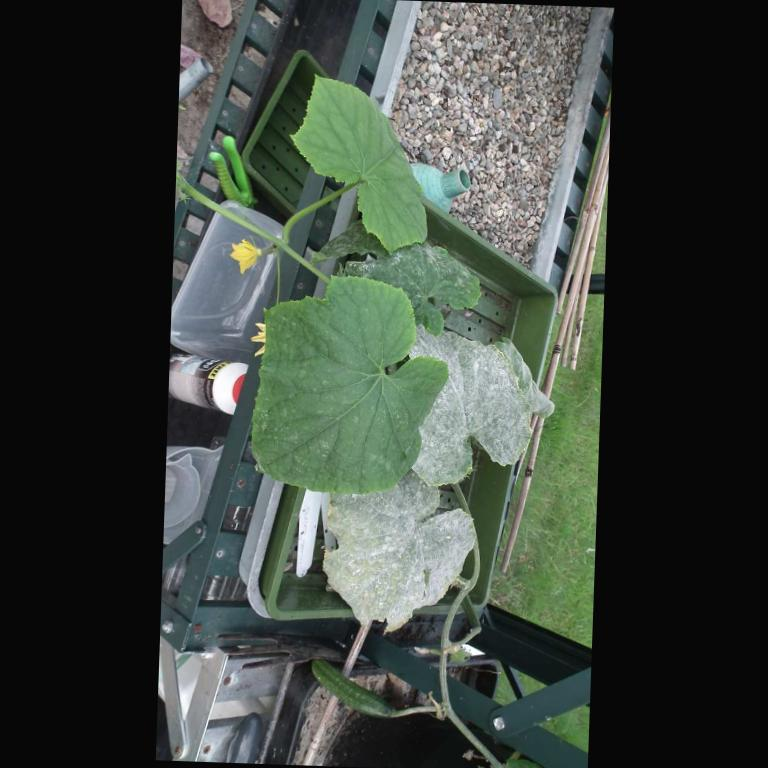powdery-mildew: (343, 508, 413, 606), (448, 356, 500, 426)
